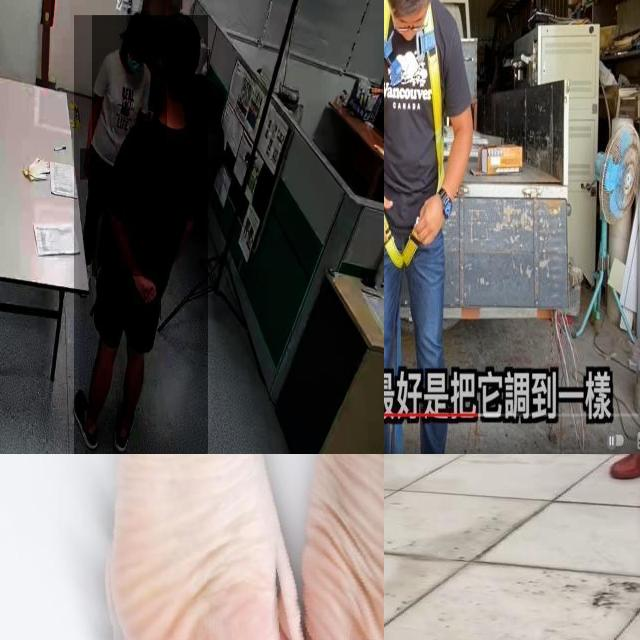Barefoots: (87, 454, 287, 640), (227, 454, 384, 640)
Harness: (384, 0, 445, 271)
face_mask: (127, 40, 145, 87)
hand_noglove: (133, 271, 157, 306), (80, 148, 92, 180)
head_nohelmet: (161, 11, 202, 48), (127, 11, 151, 40)
person: (73, 15, 208, 454), (92, 15, 167, 277)
shoes: (72, 382, 102, 452), (108, 398, 139, 454)
